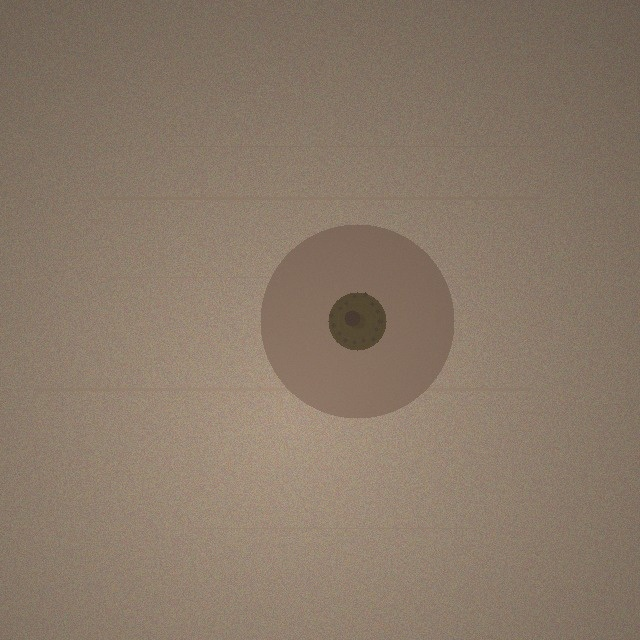cold_weld: (260, 224, 454, 418)
